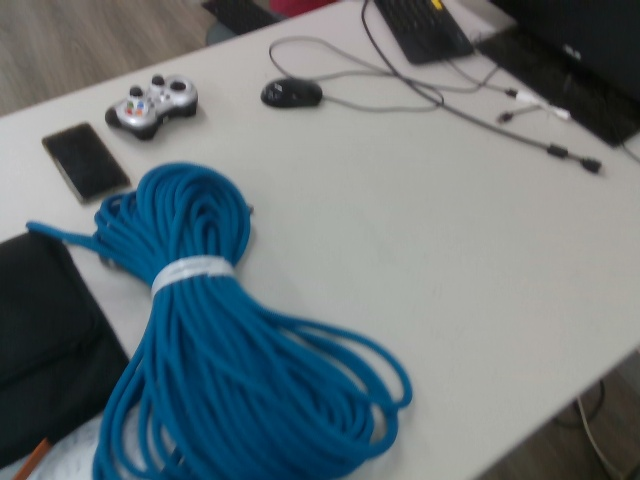rope: (22, 159, 417, 480)
